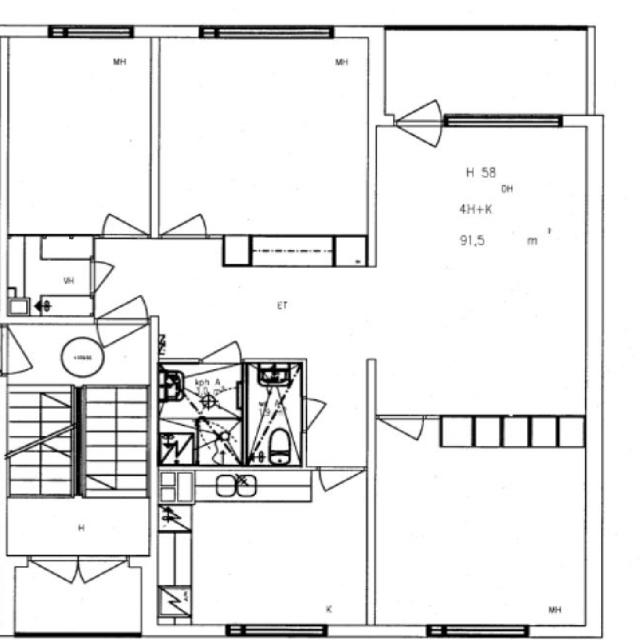door: (98, 270, 146, 325), (98, 316, 146, 371), (396, 116, 442, 169), (396, 74, 442, 126), (102, 192, 148, 238), (320, 466, 364, 512), (379, 414, 423, 460), (161, 194, 206, 238), (201, 322, 241, 362), (301, 398, 340, 430), (89, 262, 128, 293)
